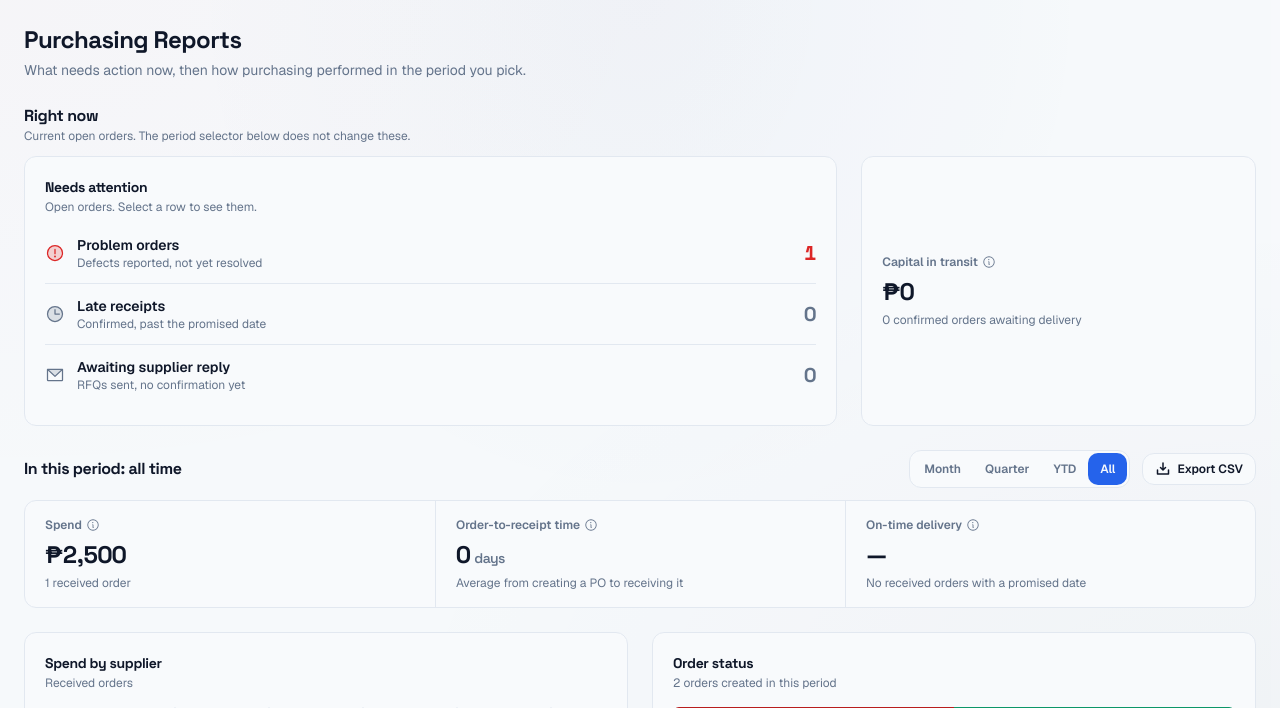
PurchasingReports › metric help opens on demand and is exposed via aria-expanded
Click the button named "what does \"spend\" mean": coordinates (93, 525) [71, 503, 115, 547]
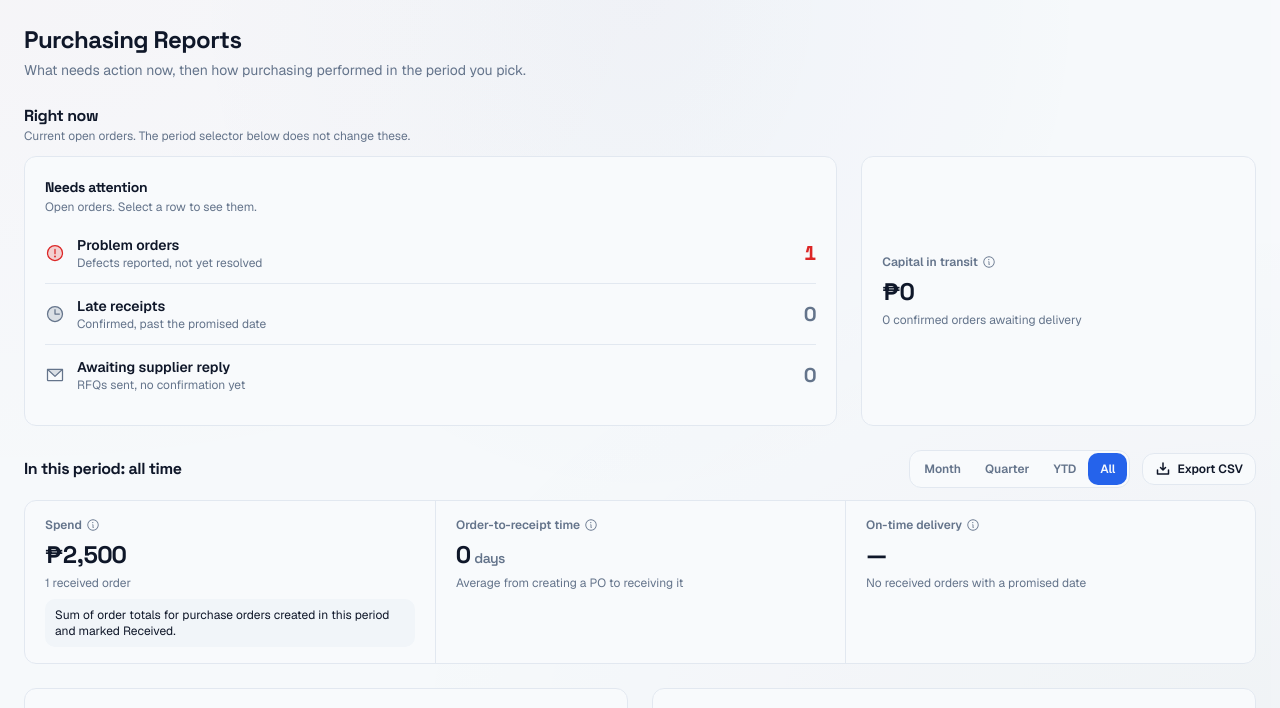
Expected: the text "marked received" is shown, [55, 607, 389, 639]
